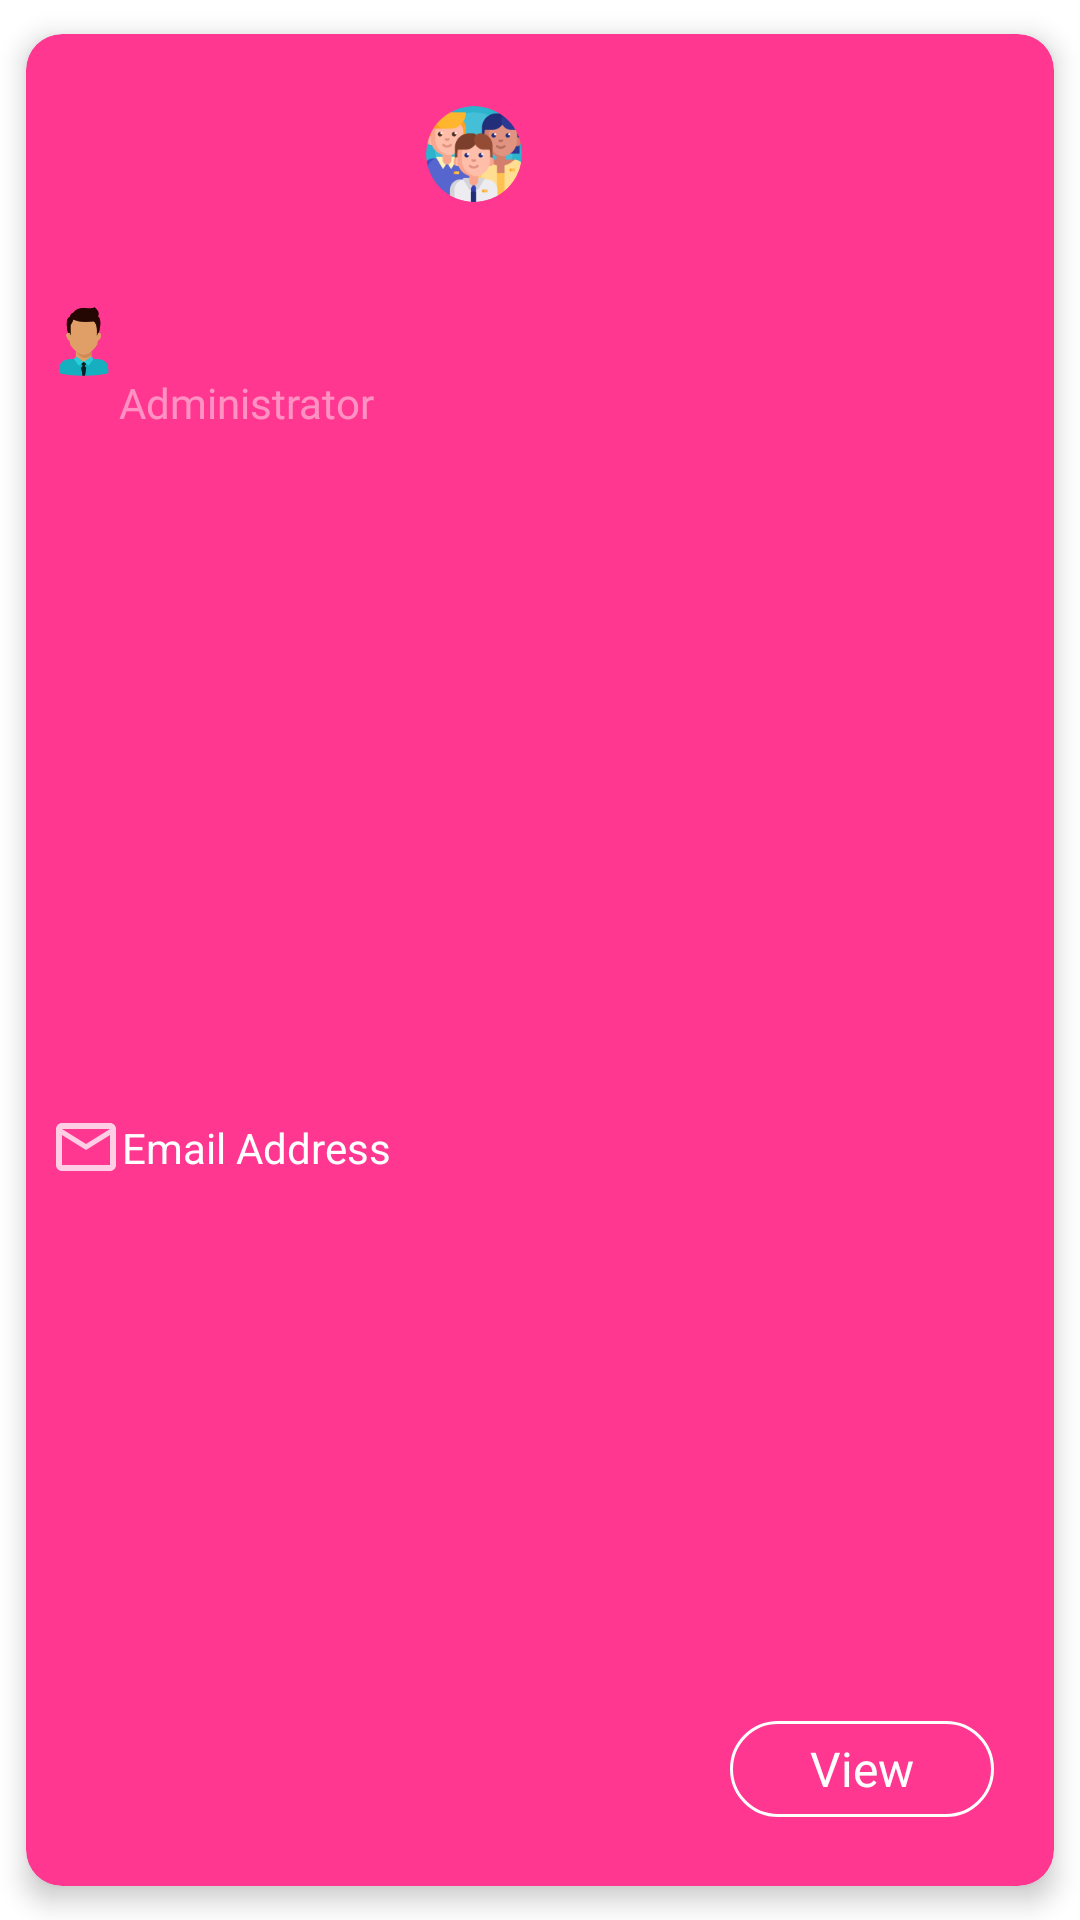

Icon bounding boxes for this 1080px x 1920px phone screenshot, format (x1, y1, x2, y2):
man: (59, 307, 109, 376)
people: (426, 106, 522, 202)
